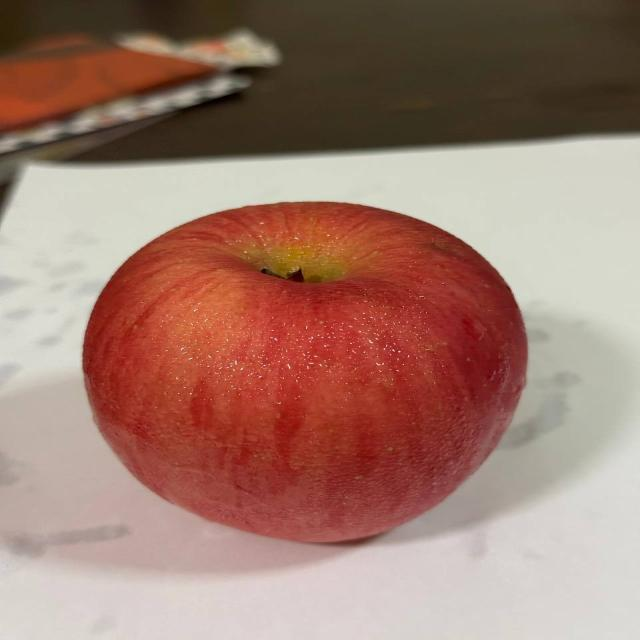apple: (58, 192, 538, 545)
